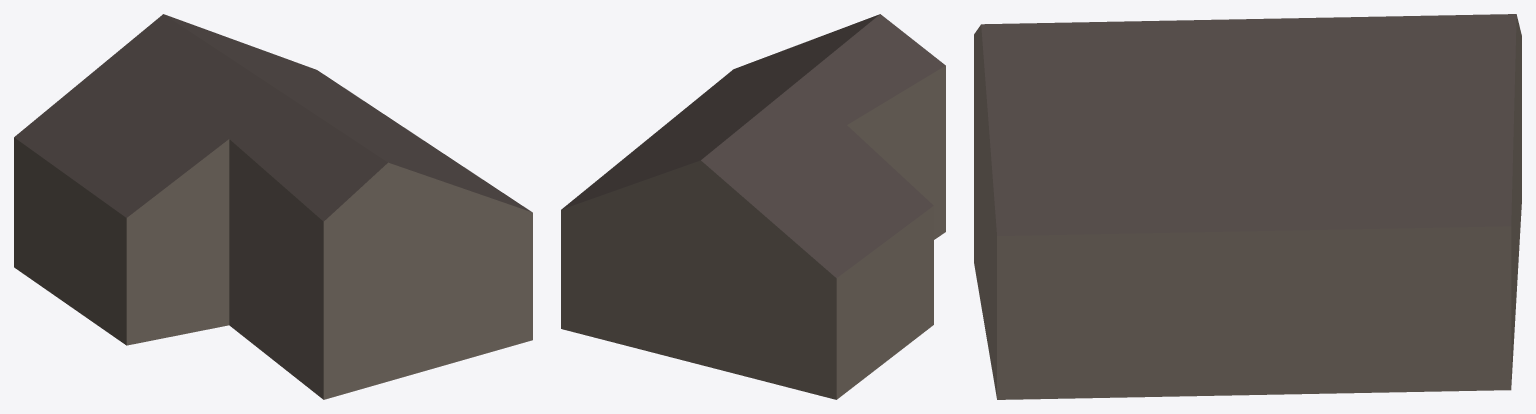
3 views of the same model, side by side, from view 1: azimuth 30°, elevation 25°; view 2: azimuth 150°, elevation 25°; view 3: azimuth 270°, elevation 25° (orthographic). The views are drawn at different scales.
Parts seen in each view (by area): view 1: HP-w1512965877; view 2: HP-w1512965877; view 3: HP-w1512965877.
Part boxes in pixels (left/top/right/bottom): HP-w1512965877: left=14, top=14, right=532, bottom=399; HP-w1512965877: left=561, top=14, right=945, bottom=399; HP-w1512965877: left=974, top=14, right=1521, bottom=399.
Size of the model in its own units: 15.48 by 10.3 by 18.18.
